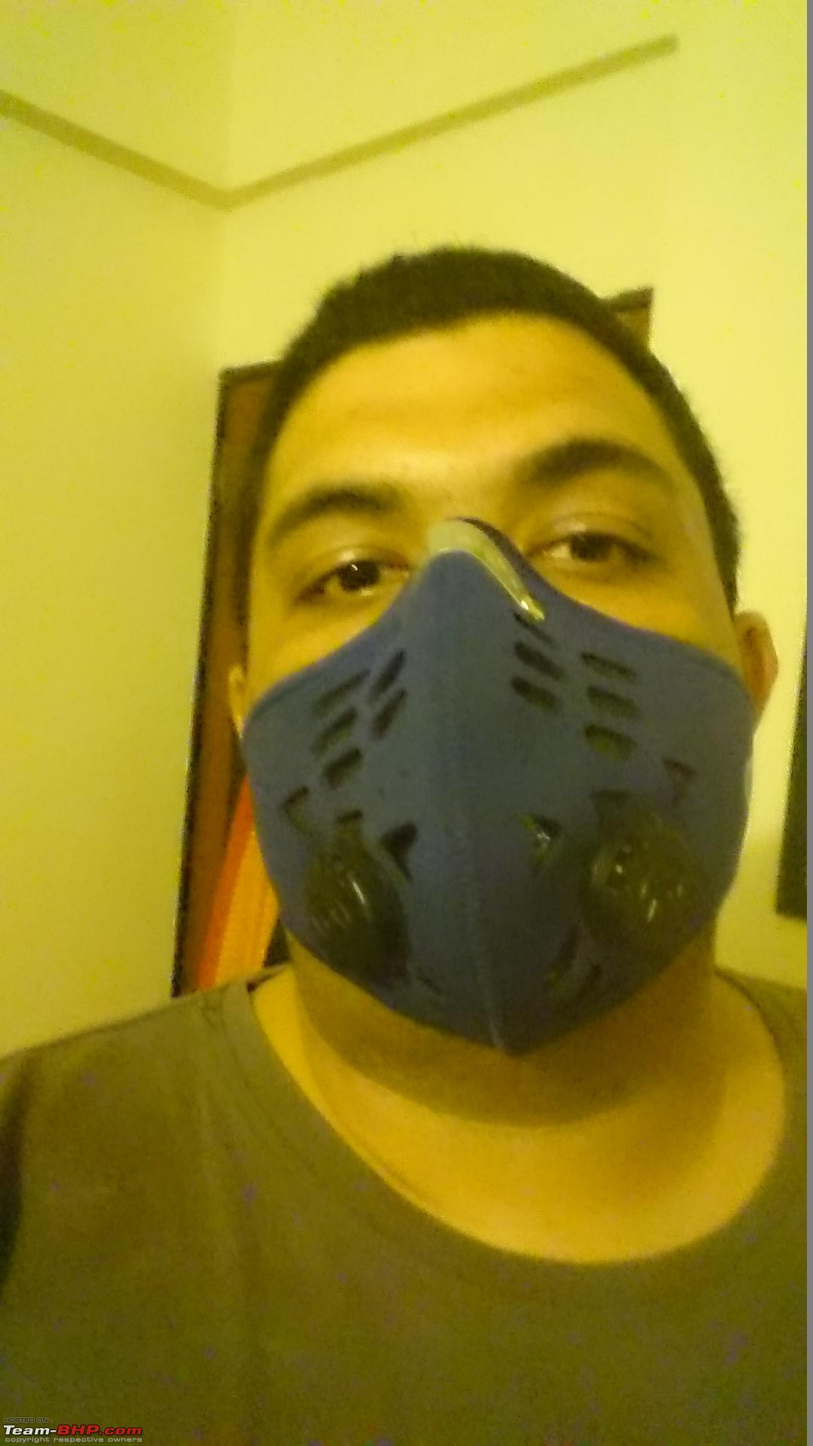Wearing Mask: (28, 38, 813, 1446)
